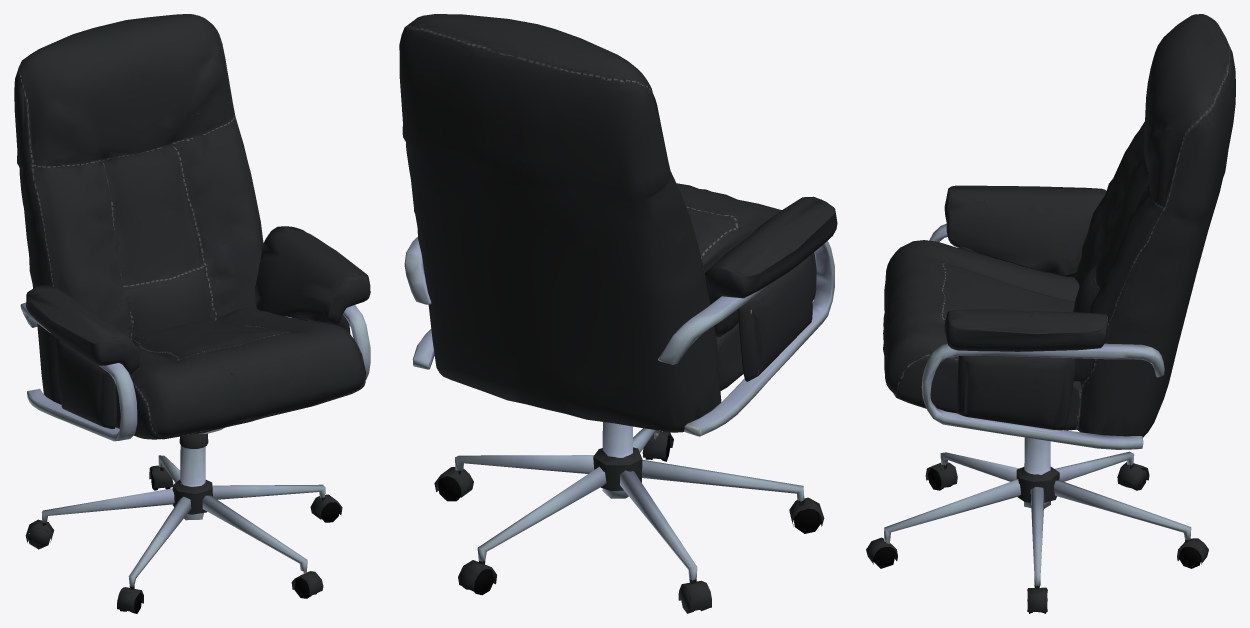
File: office_chair.glb
The picture shows the model from 3 angles, left to right: view 1: azimuth 30°, elevation 25°; view 2: azimuth 150°, elevation 25°; view 3: azimuth 270°, elevation 25°; orthographic projection. The views are drawn at different scales.
Visible parts, largest first — view 1: office_chair; view 2: office_chair; view 3: office_chair.
Boxes of the visible parts, x1,y1,x2,y2 form: office_chair: (14,14,370,613); office_chair: (399,14,837,613); office_chair: (866,14,1235,613).
Size of the model in its own units: 0.7208 by 1.12 by 0.7569.
Materials: 1 (1 with a texture image).
